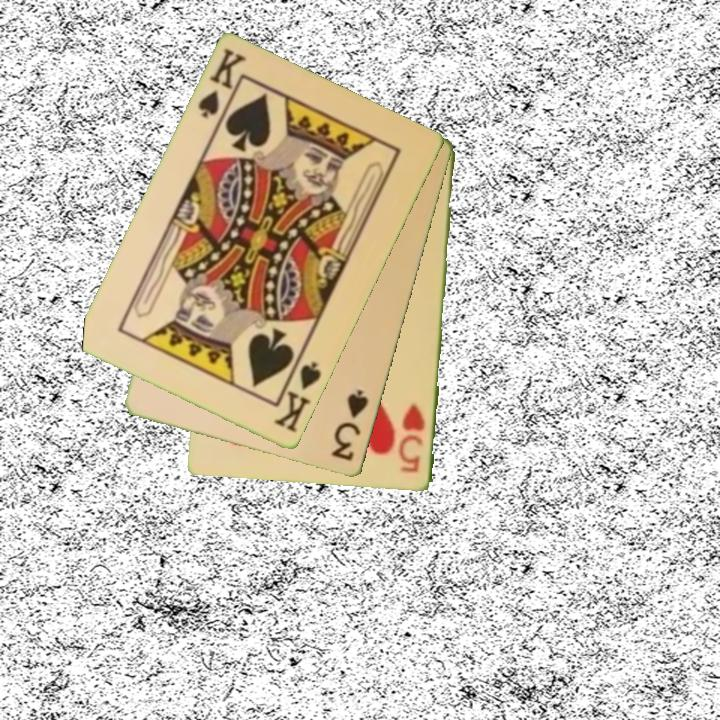3s: (328, 386, 372, 465)
5h: (397, 400, 429, 476)
Ks: (194, 45, 249, 130), (271, 353, 325, 437)
